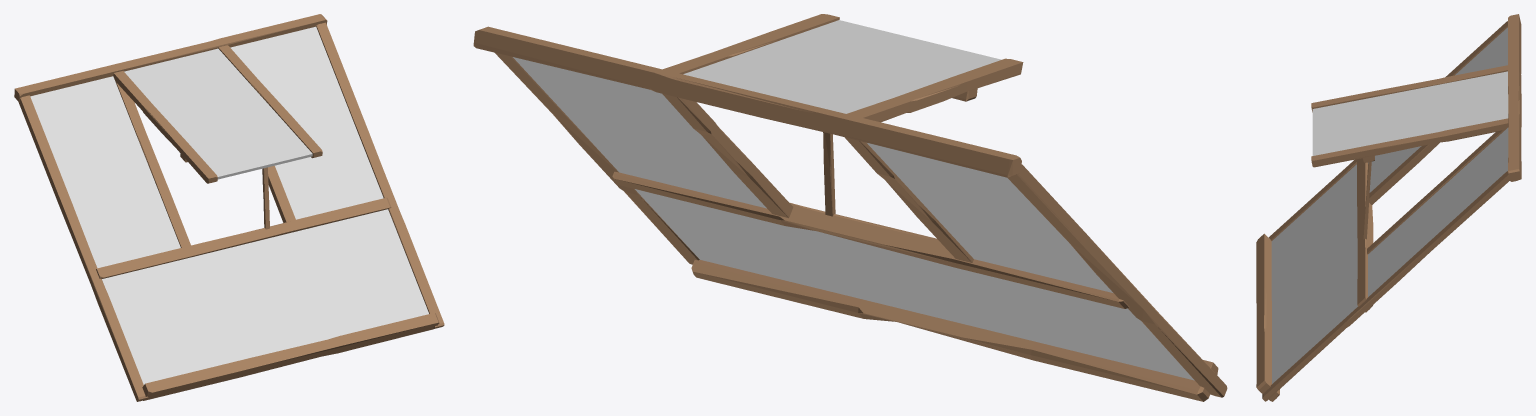
The model's file is PK_Veranda_Roof.fbx.
The picture shows the model from 3 angles, left to right: view 1: azimuth 30°, elevation 25°; view 2: azimuth 150°, elevation 25°; view 3: azimuth 270°, elevation 25°; orthographic projection. The views are drawn at different scales.
Visible parts, largest first — view 1: PK_Veranda_Roof; view 2: PK_Veranda_Roof; view 3: PK_Veranda_Roof.
Boxes of the visible parts, <box> form: PK_Veranda_Roof: <box>14,14,444,401</box>; PK_Veranda_Roof: <box>473,14,1227,401</box>; PK_Veranda_Roof: <box>1256,14,1521,401</box>.
Size of the model in its own units: 208 by 147 by 150.
